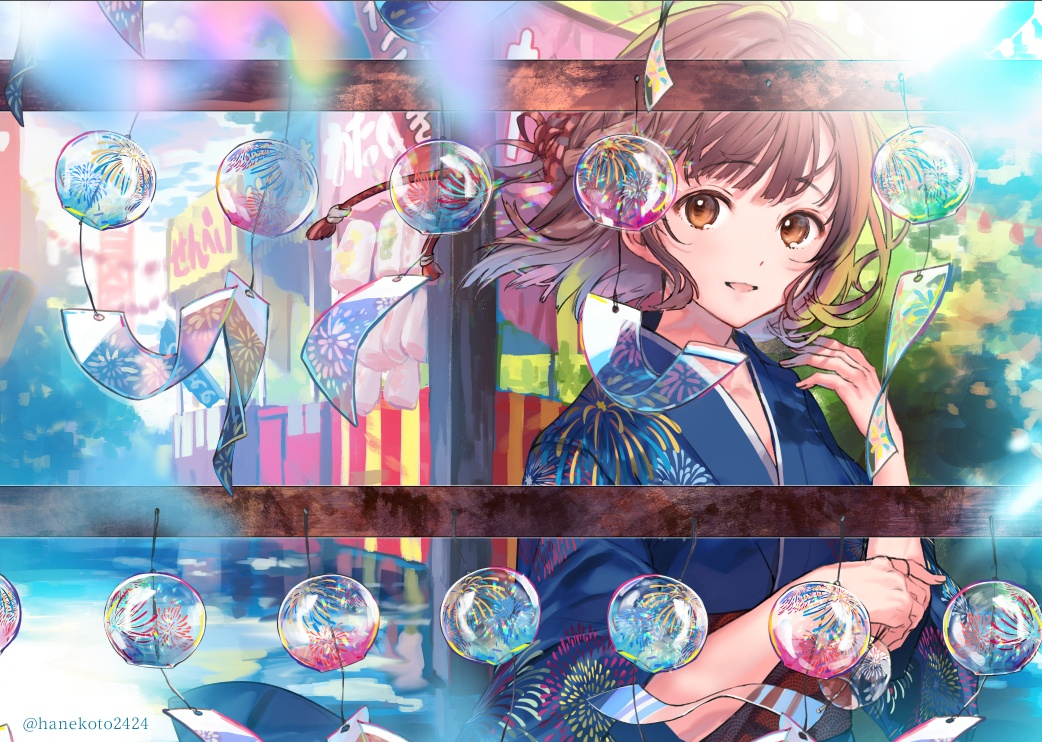纸片人正脸: (587, 86, 864, 339)
